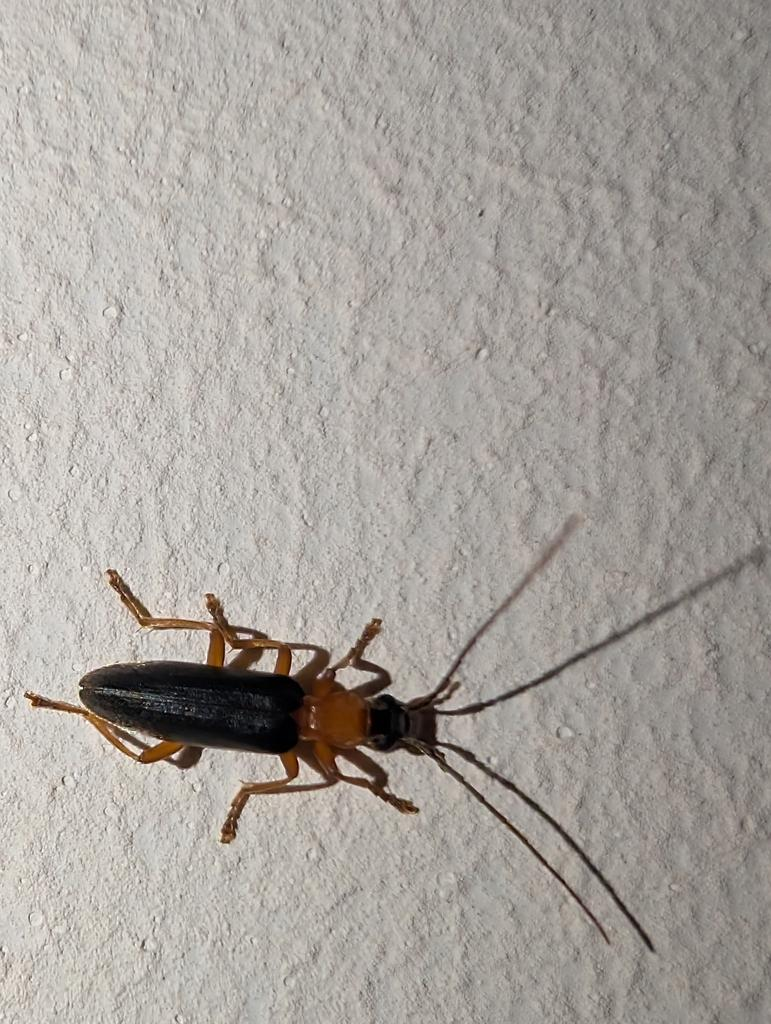blister_beetle: (0, 501, 658, 975)
